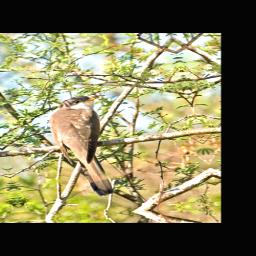Cuckoo: (41, 93, 133, 199)
